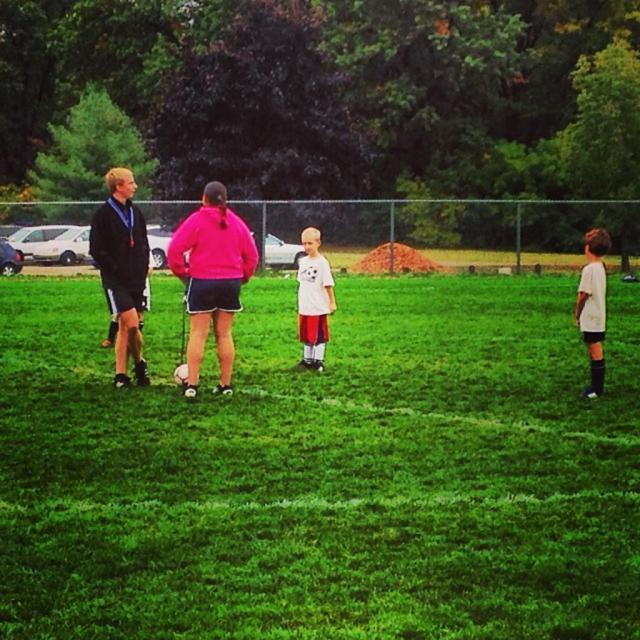football: (170, 356, 193, 389)
